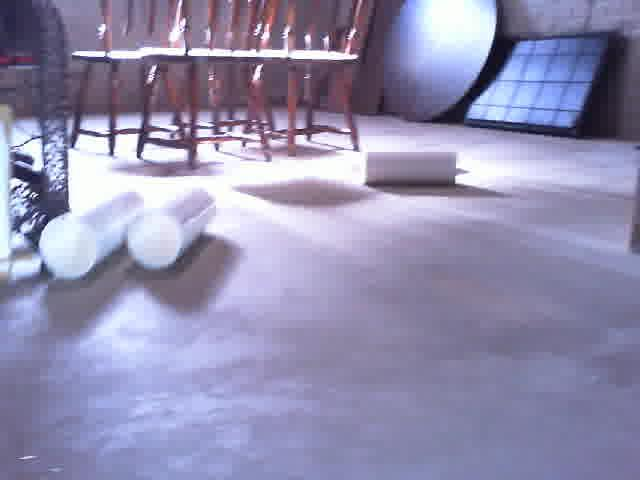coral: (41, 189, 145, 279), (126, 187, 222, 269), (363, 149, 457, 188)
